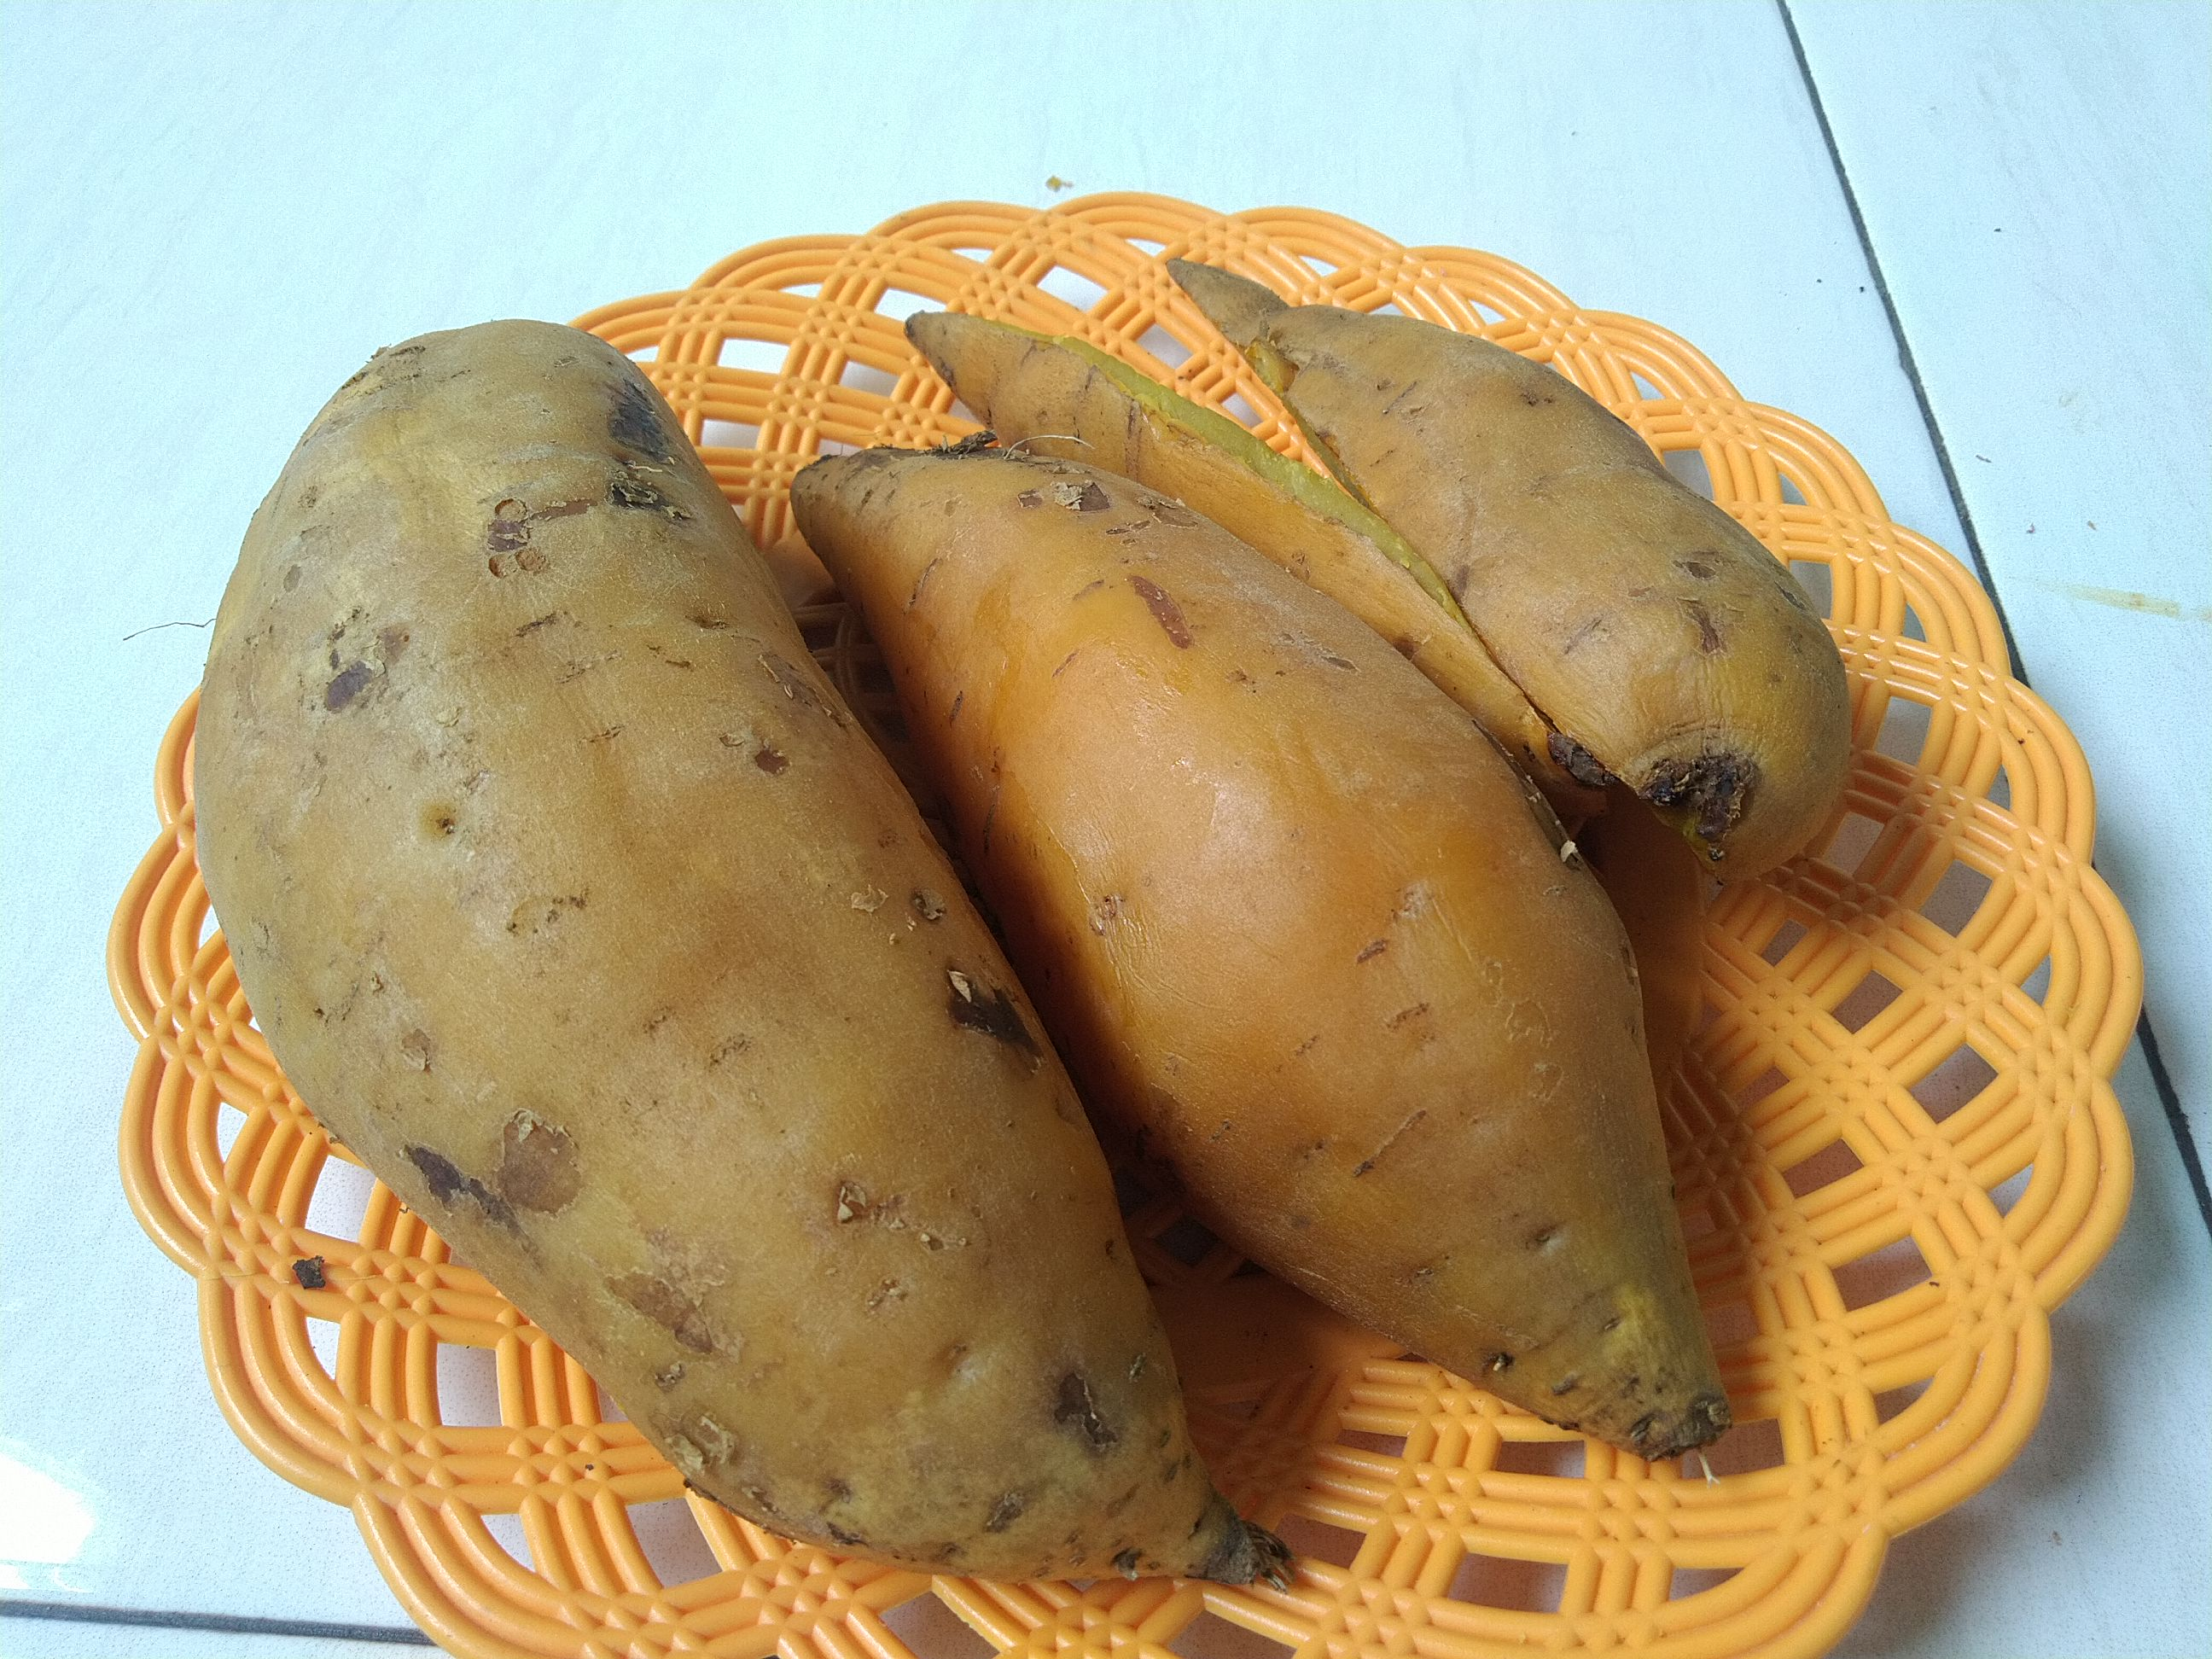ubi cilembu: (209, 310, 1277, 1619), (791, 444, 1761, 1507), (1169, 247, 1888, 885), (907, 298, 1601, 803)
